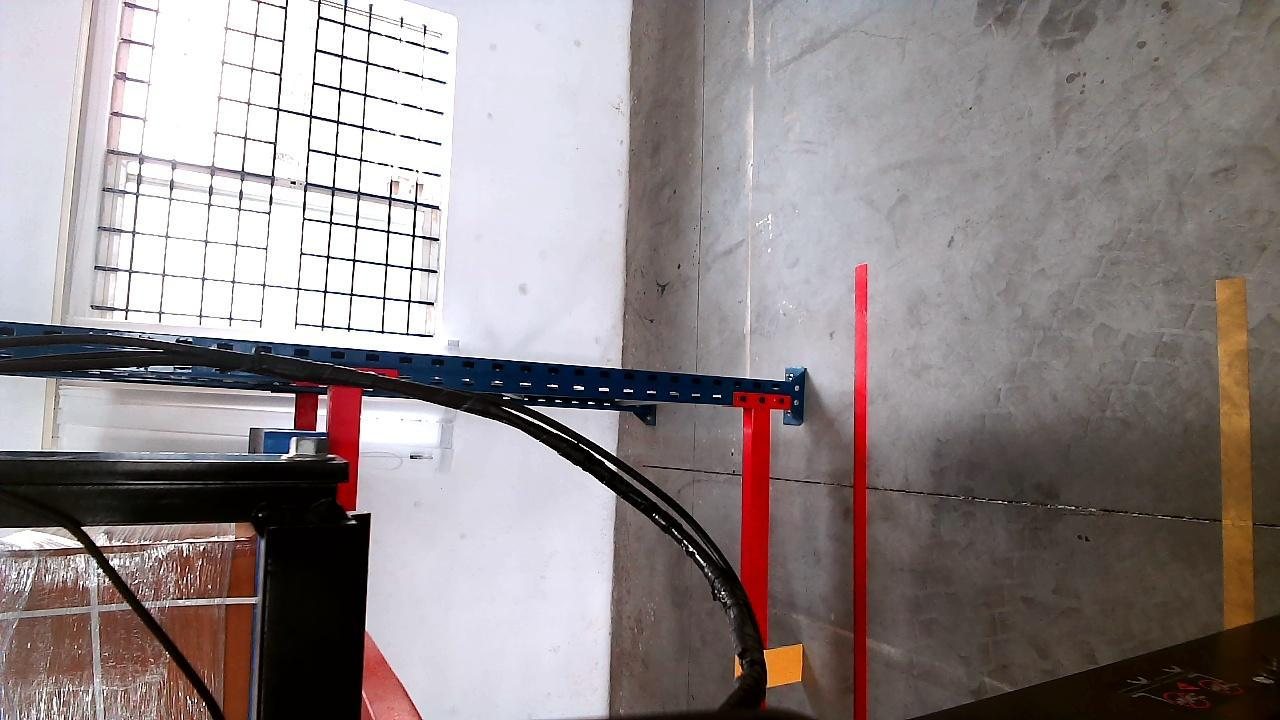red_line: (848, 263, 872, 720)
yellow_line: (1218, 269, 1256, 633)
